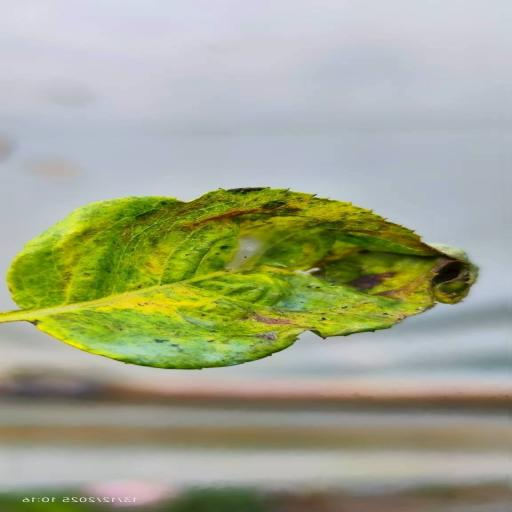thrip: (0, 187, 474, 369)
